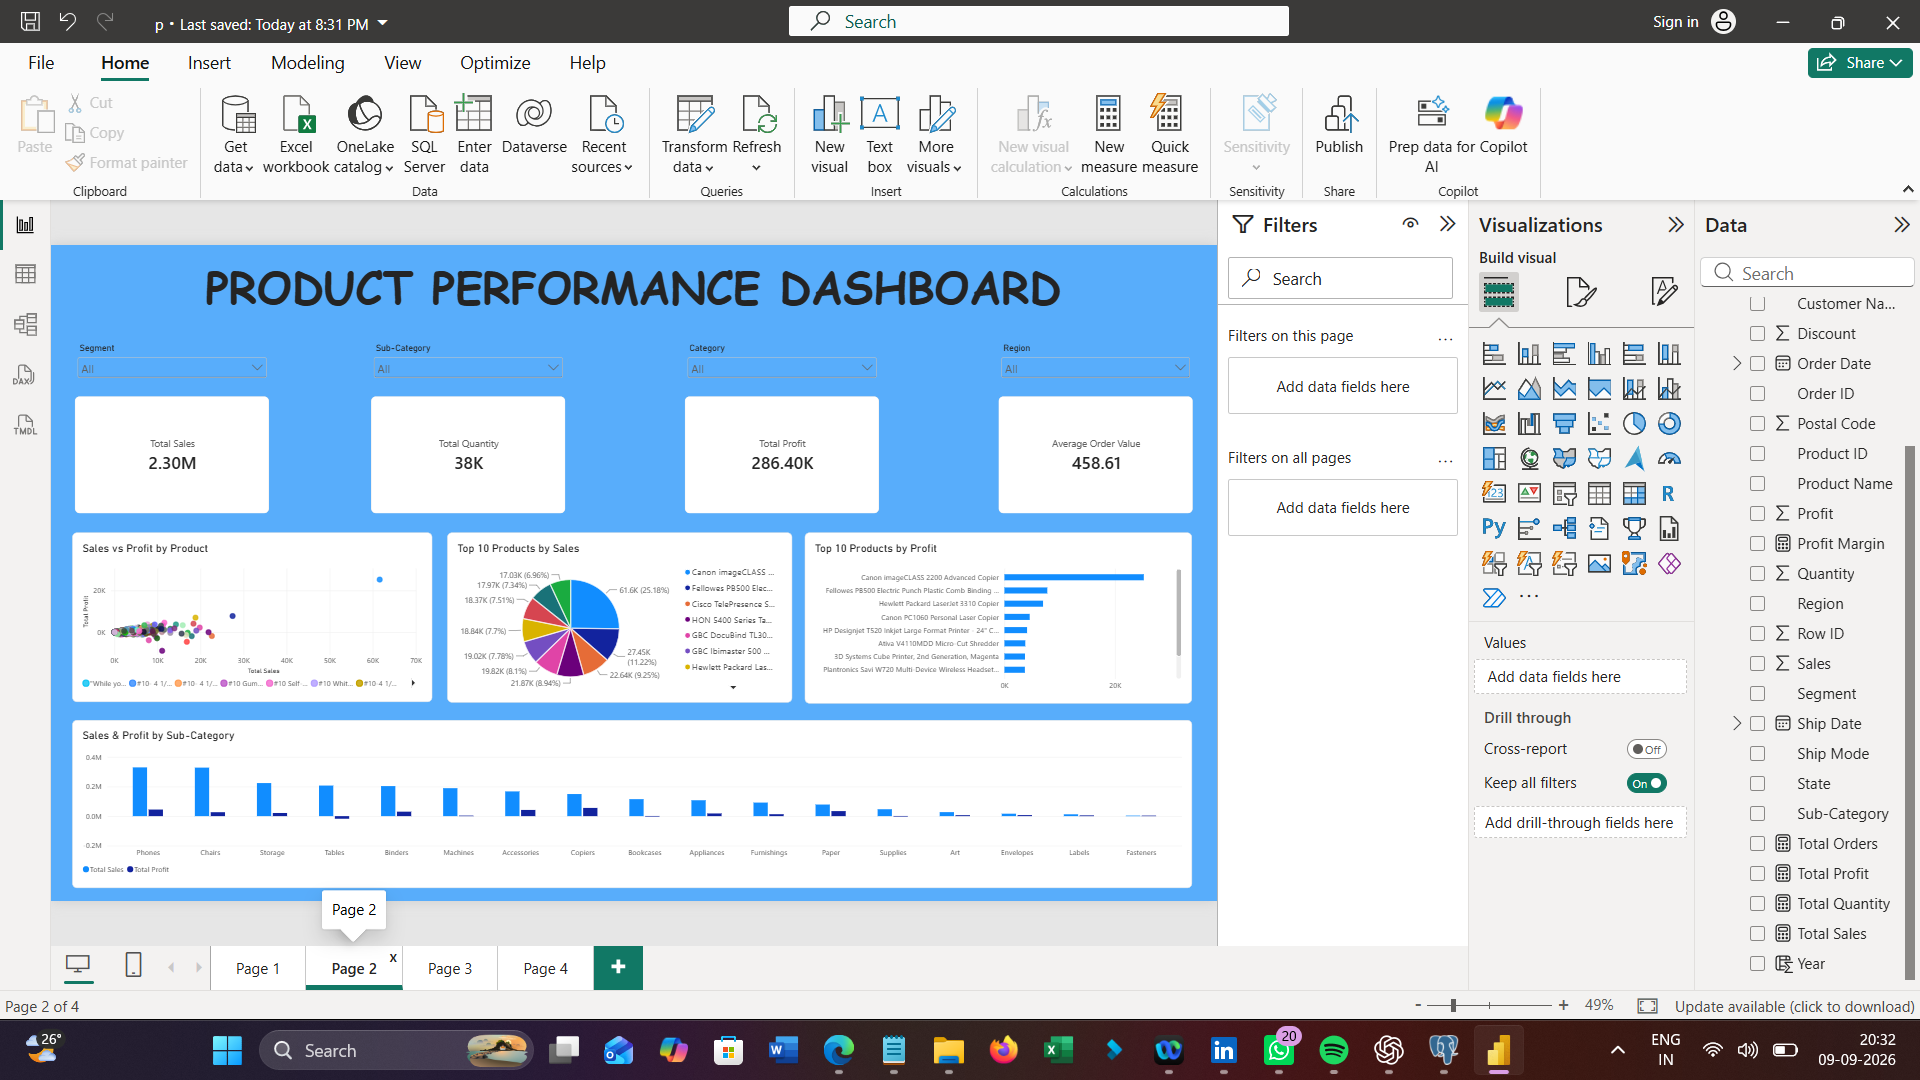

The page's visual inventory and layout, read from the dashboard file:
{"tool":"powerbi","page":{"name":"Page 2","canvas":[1920,1080],"ordinal":1},"visuals":[{"type":"textbox","box":[10,0,280,280],"z":0},{"type":"textbox","box":[10.9,18.1,1896.5,121.2],"z":1000},{"type":"cardVisual","fields":{"Data":["superstore.Total Sales"]},"box":[39.5,248.8,320.3,193.6],"z":2000},{"type":"cardVisual","fields":{"Data":["superstore.Total Profit"]},"box":[1044.2,248.8,320.3,193.6],"z":3000},{"type":"cardVisual","fields":{"Data":["superstore.Total Quantity"]},"box":[527.9,248.8,320.3,193.6],"z":4000},{"type":"cardVisual","fields":{"Data":["superstore.Average Order Value"]},"box":[1560.5,248.8,320.3,193.6],"z":5000},{"type":"pieChart","title":"Top 10 Products by Sales","fields":{"Category":["superstore.Product Name"],"Y":["superstore.Total Sales"]},"box":[653.5,474.4,568,280],"z":6000},{"type":"clusteredBarChart","title":"Top 10 Products by Profit","fields":{"Category":["superstore.Product Name"],"Y":["superstore.Total Profit"]},"box":[1241.9,474.4,637.2,281.4],"z":7000},{"type":"clusteredColumnChart","title":"Sales & Profit by Sub-Category","fields":{"Category":["superstore.Sub-Category"],"Y":["superstore.Total Sales","superstore.Total Profit"]},"box":[34.9,781.4,1844.2,276.7],"z":8000},{"type":"scatterChart","title":"Sales vs Profit by Product","fields":{"Series":["superstore.Product Name"],"X":["superstore.Total Sales"],"Y":["superstore.Total Profit"]},"box":[34.9,474.4,593,279.1],"z":9000},{"type":"slicer","fields":{"Values":["superstore.Category"]},"box":[1044.2,160.5,320.9,69.8],"z":10000},{"type":"slicer","fields":{"Values":["superstore.Segment"]},"box":[39.5,160.5,320.9,69.8],"z":11000},{"type":"slicer","fields":{"Values":["superstore.Sub-Category"]},"box":[527.9,160.5,320.9,67.4],"z":12000},{"type":"slicer","fields":{"Values":["superstore.Region"]},"box":[1560.5,160.5,320,70],"z":13000}]}

Visuals, with their boxes on the page's 1920x1080 design canvas (x1, y1, x2, y2). These are canvas units, not pixel positions in the 1920x1080 screenshot, which may show the page scaled, cropped or inside an application window:
textbox: <bbox>10, 0, 290, 280</bbox>
textbox: <bbox>11, 18, 1907, 139</bbox>
cardVisual - superstore.Total Sales: <bbox>40, 249, 360, 442</bbox>
cardVisual - superstore.Total Profit: <bbox>1044, 249, 1364, 442</bbox>
cardVisual - superstore.Total Quantity: <bbox>528, 249, 848, 442</bbox>
cardVisual - superstore.Average Order Value: <bbox>1560, 249, 1881, 442</bbox>
"Top 10 Products by Sales" pieChart: <bbox>654, 474, 1222, 754</bbox>
"Top 10 Products by Profit" clusteredBarChart: <bbox>1242, 474, 1879, 756</bbox>
"Sales & Profit by Sub-Category" clusteredColumnChart: <bbox>35, 781, 1879, 1058</bbox>
"Sales vs Profit by Product" scatterChart: <bbox>35, 474, 628, 754</bbox>
slicer - superstore.Category: <bbox>1044, 160, 1365, 230</bbox>
slicer - superstore.Segment: <bbox>40, 160, 360, 230</bbox>
slicer - superstore.Sub-Category: <bbox>528, 160, 849, 228</bbox>
slicer - superstore.Region: <bbox>1560, 160, 1880, 230</bbox>
